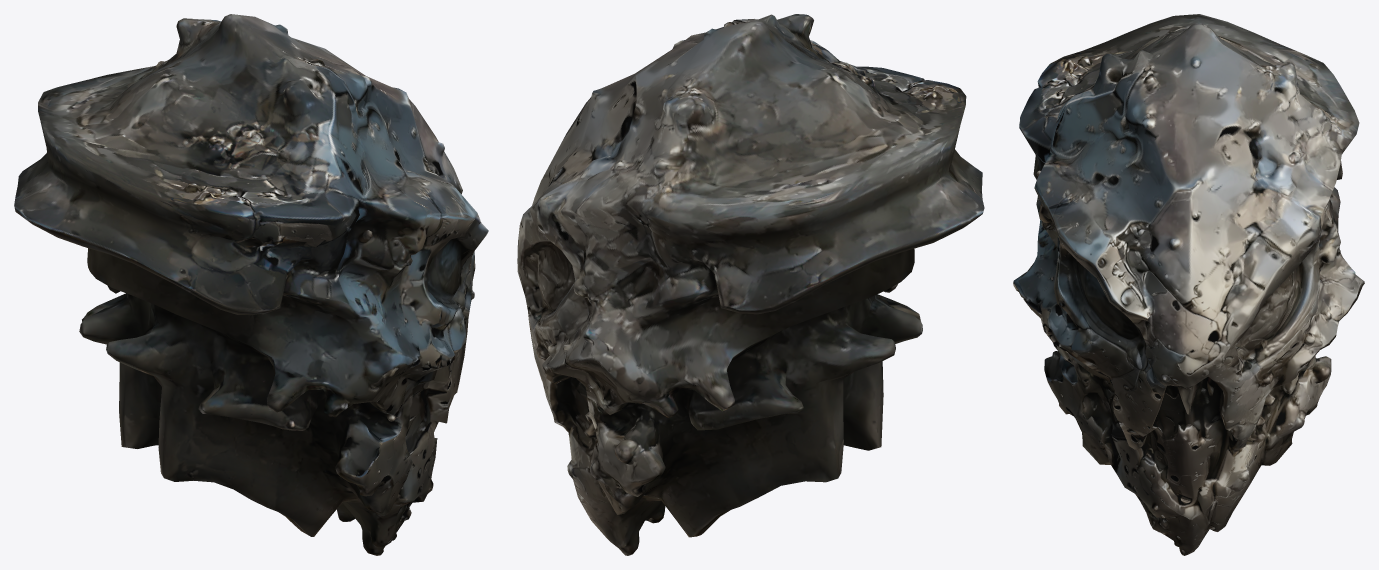
The model's file is artifact-itcher.glb.
3 views of the same model, side by side, from view 1: azimuth 30°, elevation 25°; view 2: azimuth 150°, elevation 25°; view 3: azimuth 270°, elevation 25° (orthographic). The views are drawn at different scales.
Visible parts, largest first — view 1: tripo_node_317cc2f2-eb3f-4835-bf5b-cb1806dde788; view 2: tripo_node_317cc2f2-eb3f-4835-bf5b-cb1806dde788; view 3: tripo_node_317cc2f2-eb3f-4835-bf5b-cb1806dde788.
Boxes of the visible parts, <box> form: tripo_node_317cc2f2-eb3f-4835-bf5b-cb1806dde788: <box>14,14,488,555</box>; tripo_node_317cc2f2-eb3f-4835-bf5b-cb1806dde788: <box>517,14,984,555</box>; tripo_node_317cc2f2-eb3f-4835-bf5b-cb1806dde788: <box>1013,14,1364,555</box>.
Size of the model in its own units: 0.8325 by 0.9995 by 0.6714.
1 material, 1 textured.
